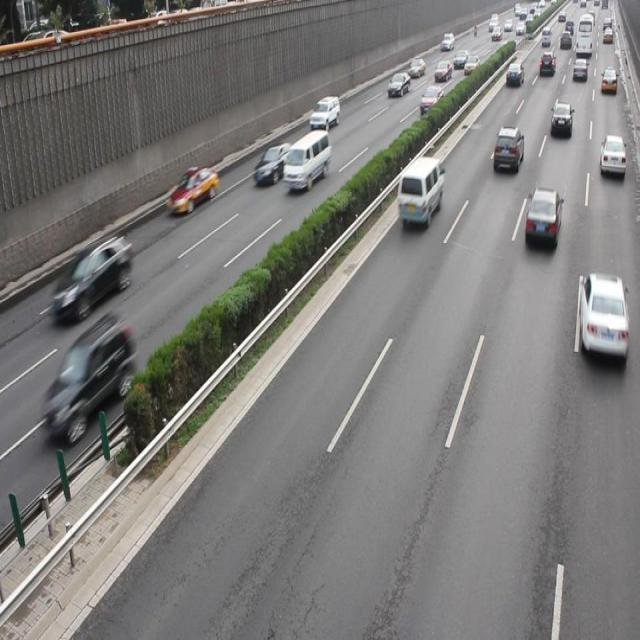car: (42, 312, 136, 439), (52, 234, 133, 321), (578, 272, 627, 361), (165, 164, 218, 215), (522, 186, 560, 248), (252, 142, 294, 184), (492, 125, 523, 172), (599, 132, 624, 176), (309, 95, 340, 128), (548, 100, 571, 138)
truck: (396, 156, 443, 224), (283, 130, 330, 190)
